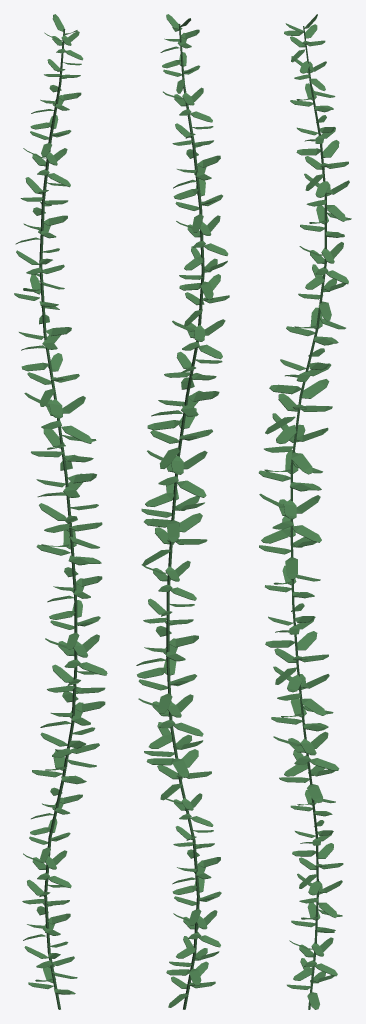
The model's file is Seaweed_015.glb.
3 views of the same model, side by side, from view 1: azimuth 30°, elevation 25°; view 2: azimuth 210°, elevation 25°; view 3: azimuth 270°, elevation 25° (orthographic).
Visible parts, largest first — view 1: Seaweed_015; view 2: Seaweed_015; view 3: Seaweed_015.
Boxes of the visible parts, <box> form: Seaweed_015: <box>14,14,107,1009</box>; Seaweed_015: <box>136,14,229,1009</box>; Seaweed_015: <box>258,14,351,1009</box>.
Size of the model in its own units: 0.8687 by 11.11 by 0.9428.
Materials: 1 (1 with a texture image).
